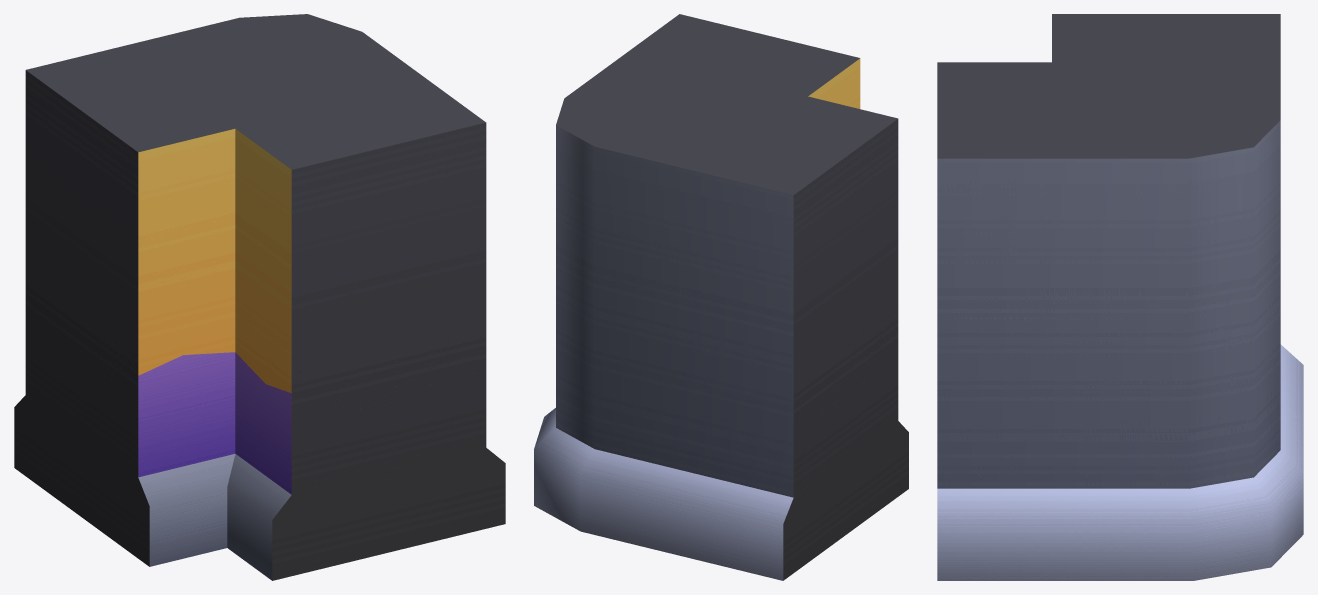
Rendered from wall-corner.002_lev2.glb.
3 views of the same model, side by side, from view 1: azimuth 30°, elevation 25°; view 2: azimuth 150°, elevation 25°; view 3: azimuth 270°, elevation 25° (orthographic). The views are drawn at different scales.
Visible parts, largest first — view 1: wall-corner.002_lev2; view 2: wall-corner.002_lev2; view 3: wall-corner.002_lev2.
Boxes of the visible parts, <box> form: wall-corner.002_lev2: <box>14,14,505,580</box>; wall-corner.002_lev2: <box>534,14,908,580</box>; wall-corner.002_lev2: <box>937,14,1303,580</box>.
Bounding box in the file's own units: 3.21 × 4.01 × 3.23.
1 material, 1 textured.
